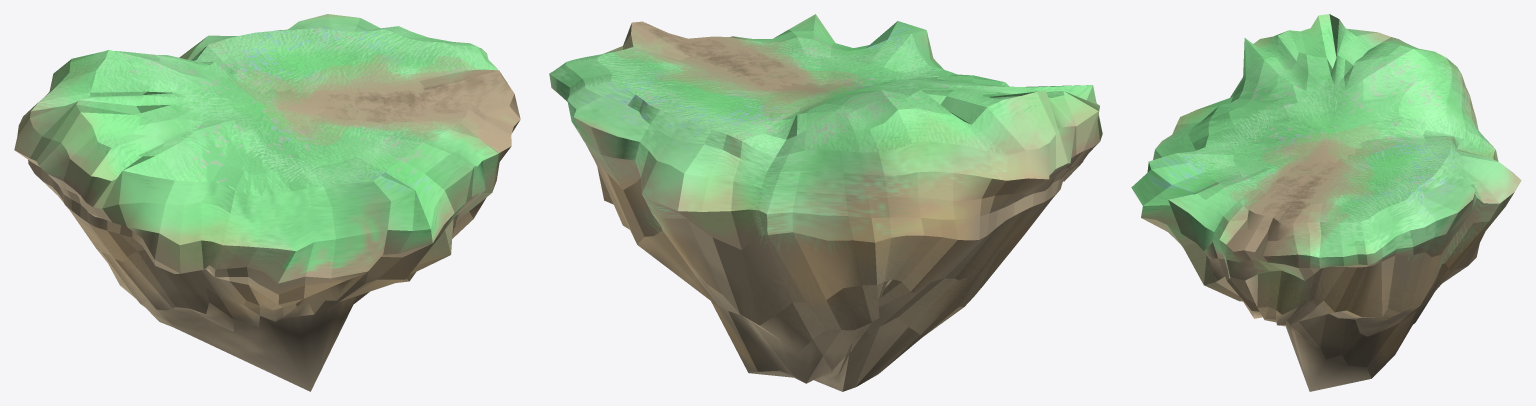
The model's file is base10_animation.fbx.
The picture shows the model from 3 angles, left to right: view 1: azimuth 30°, elevation 25°; view 2: azimuth 150°, elevation 25°; view 3: azimuth 270°, elevation 25°; orthographic projection. The views are drawn at different scales.
Parts seen in each view (by area): view 1: pCylinder4.001; view 2: pCylinder4.001; view 3: pCylinder4.001.
Boxes of the visible parts, x1,y1,x2,y2 form: pCylinder4.001: [14, 14, 520, 391]; pCylinder4.001: [549, 14, 1102, 391]; pCylinder4.001: [1131, 14, 1521, 391].
Size of the model in its own units: 37168 by 25229 by 31320.
Materials: 1 (1 with a texture image).
